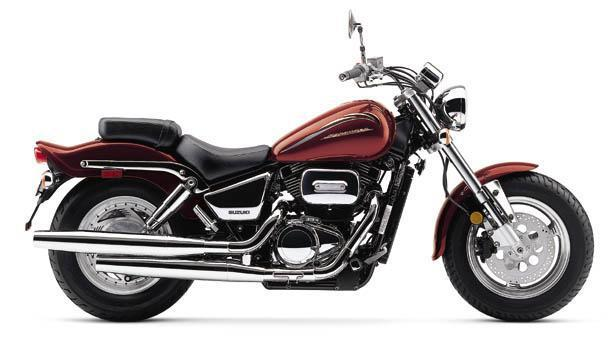Motorcycle: (17, 7, 601, 336)
